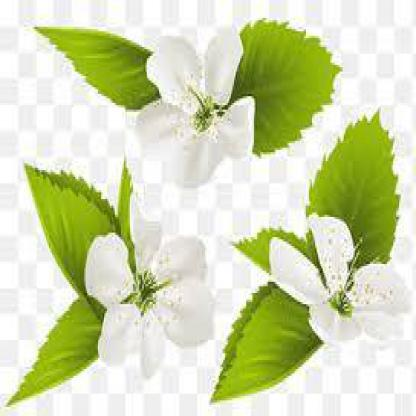Melati: (65, 30, 295, 176), (66, 191, 234, 379), (272, 185, 403, 364)
